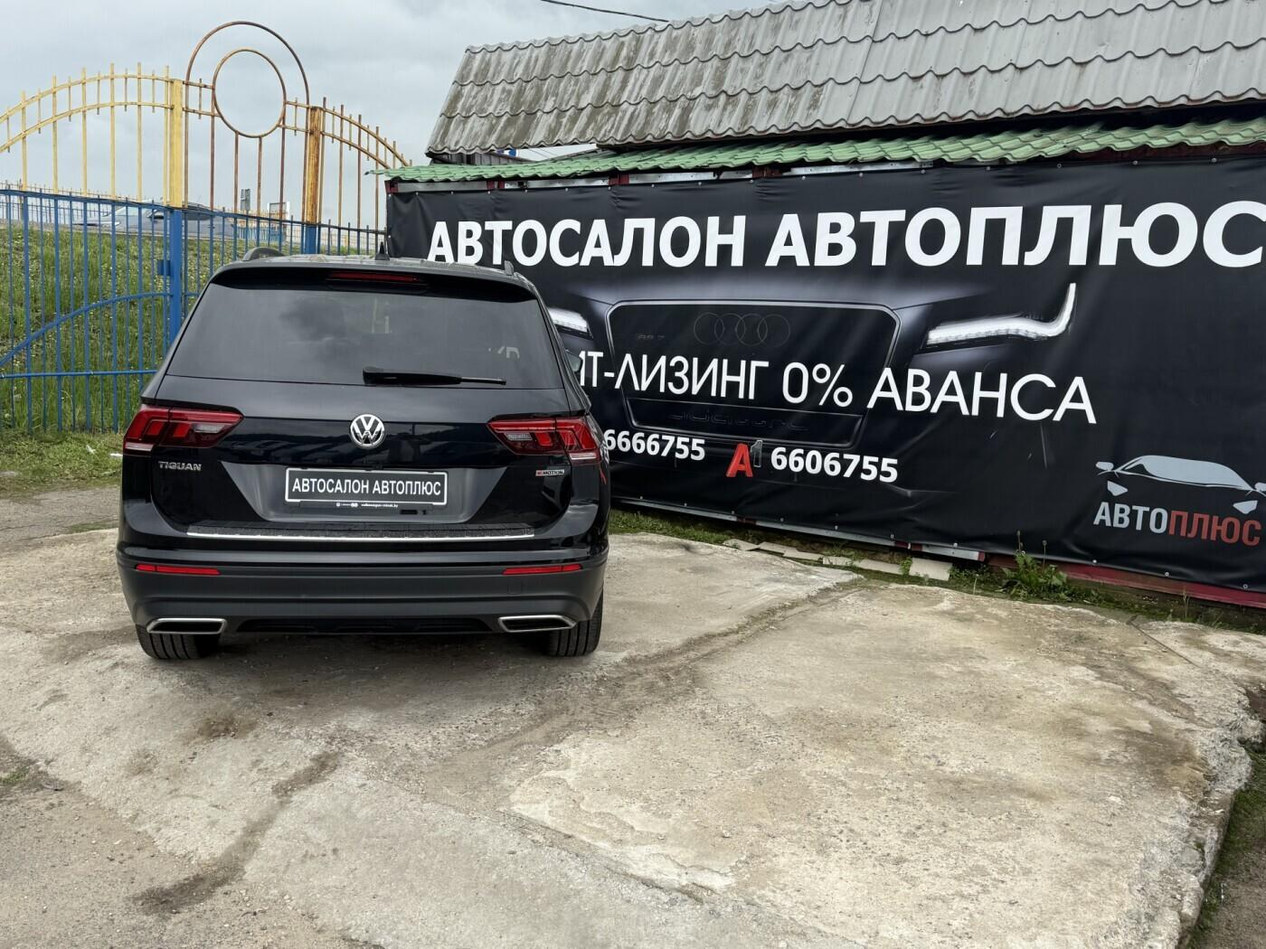Tiguan_2016-2021: (111, 250, 616, 665)
